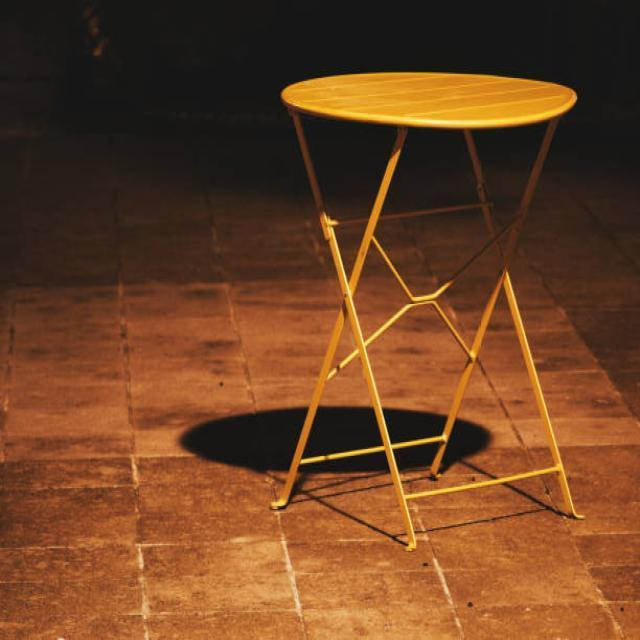table: (268, 70, 584, 550)
